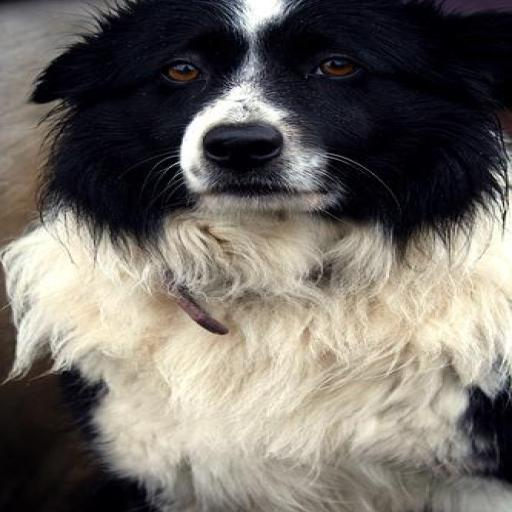dog_face: (26, 1, 492, 217)
